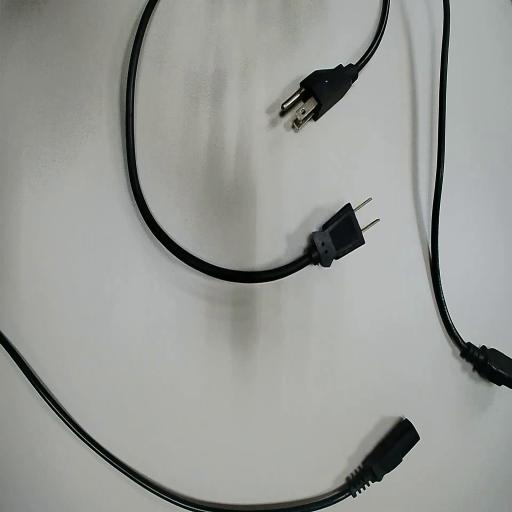wire: (125, 0, 363, 282), (430, 0, 511, 387), (280, 0, 387, 120)
